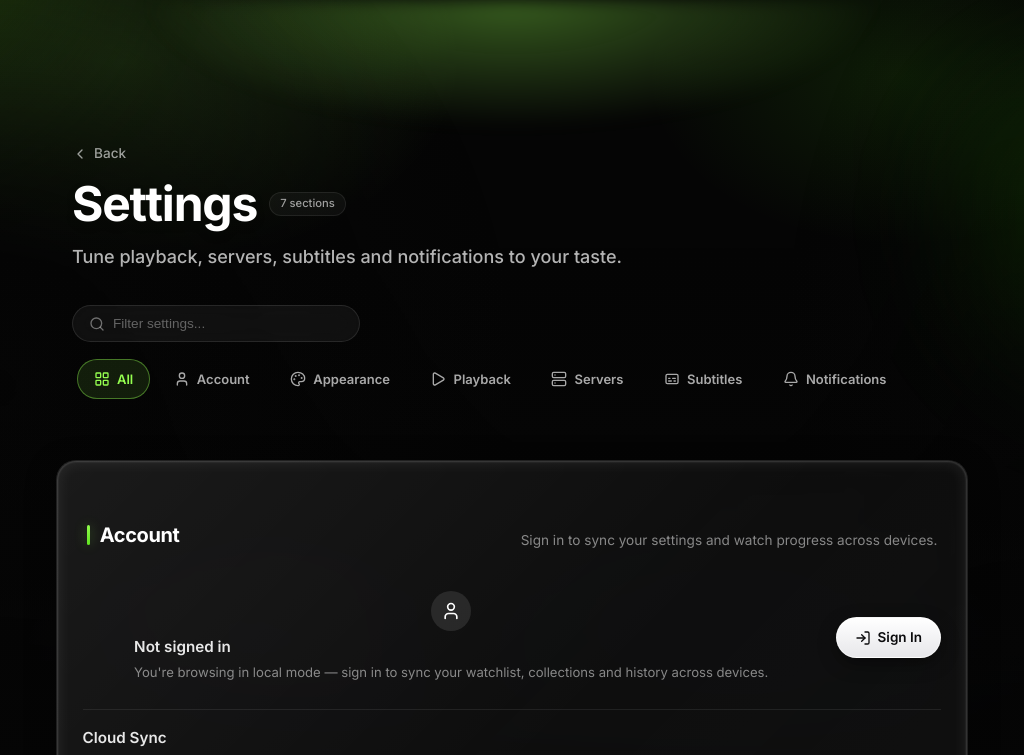
Test: SettingsPage › filters against visible copy, including the reset card
In the field labelled "Filter settings...": (228, 324) [113,314,343,333], type "watchlist"
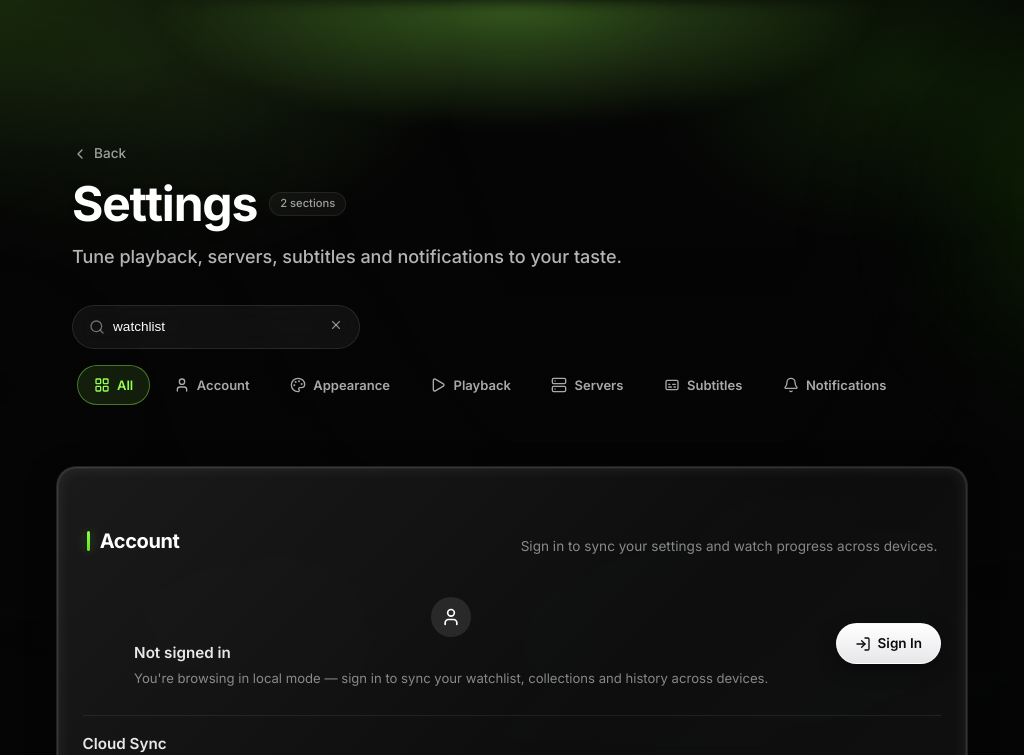
Replace the text in the field named "Filter settings" with "reset": (217, 327) [113,317,321,336]
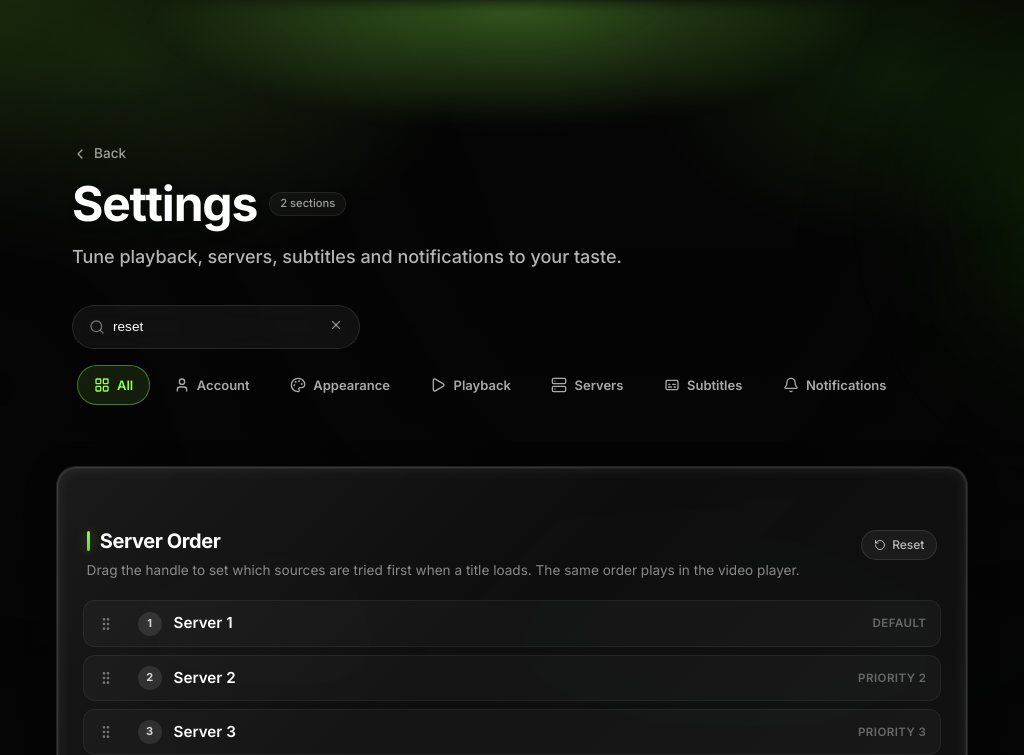
Expected: the text "no settings match" is not shown
Replace the text in the field named "Filter settings" with "mongodb": (217, 327) [113,317,321,336]
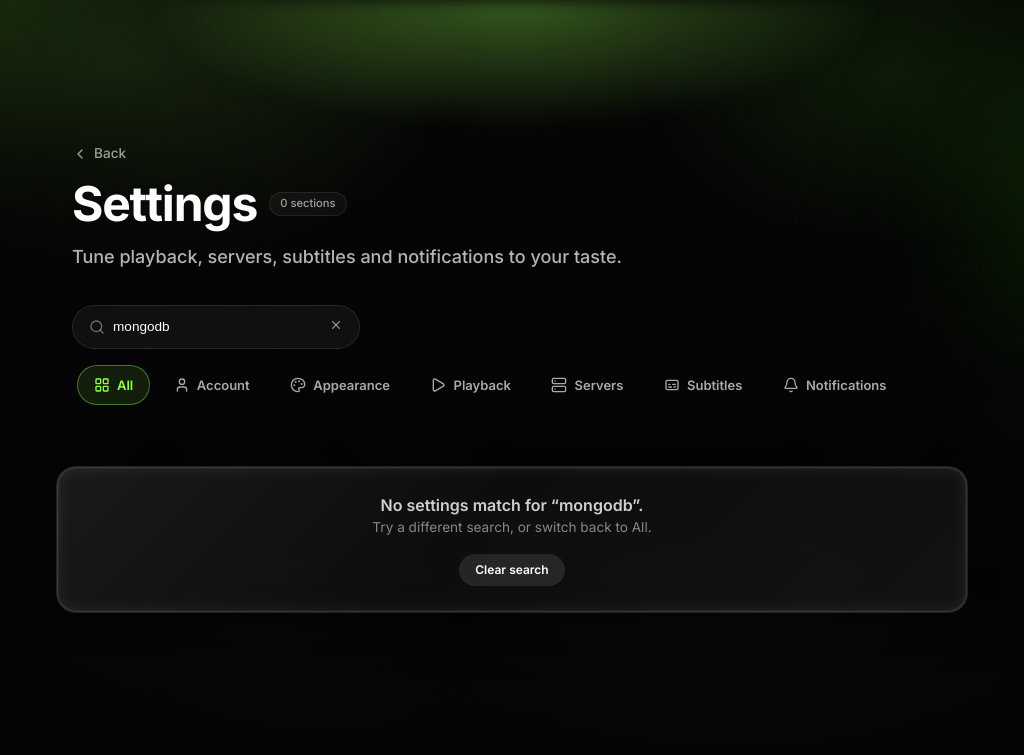
Result: the text "No settings match for “mongodb”." is shown at [380,495,644,515]
Replace the text in the field named "Filter settings" with "google": (217, 327) [113,317,321,336]
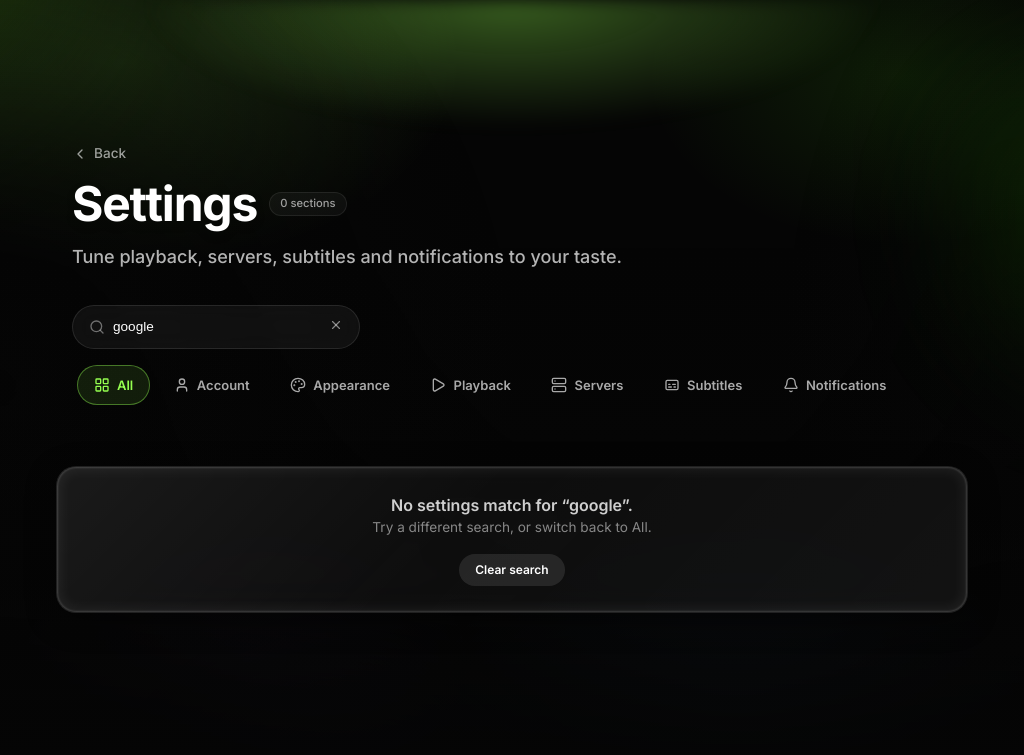
Result: the text "No settings match for “google”." is shown at [391,495,633,515]
# ...while the replacement wording still finds it.
Replace the text in the field named "Filter settings" with "verified": (217, 327) [113,317,321,336]
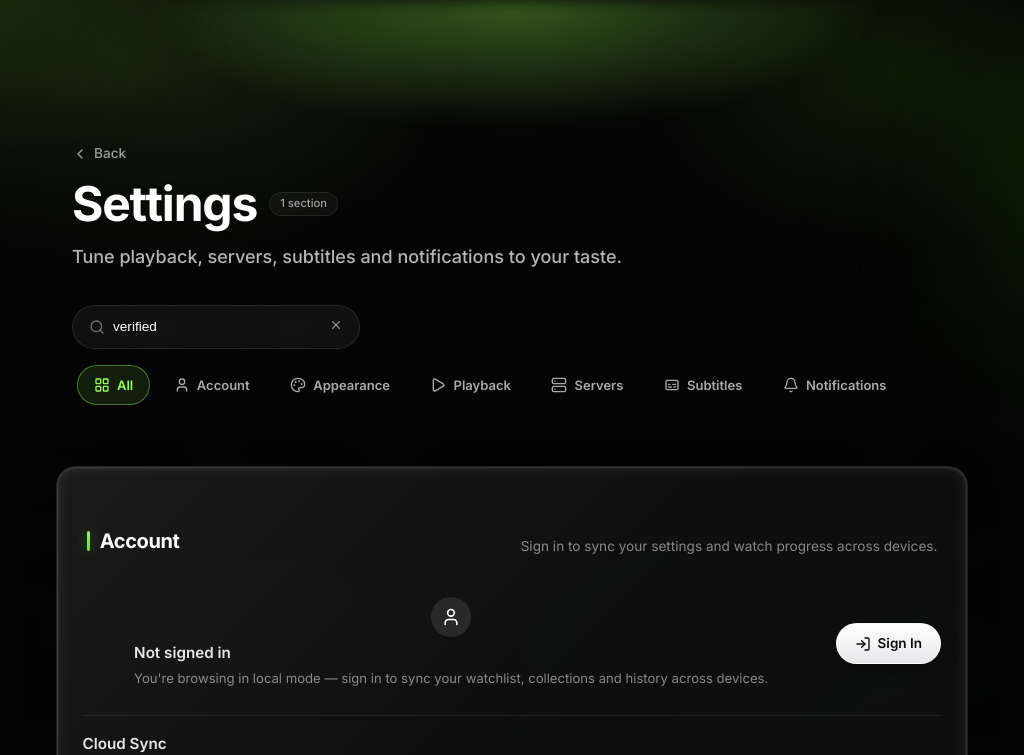
Result: the heading "Account" is shown at [87,525,179,557]
